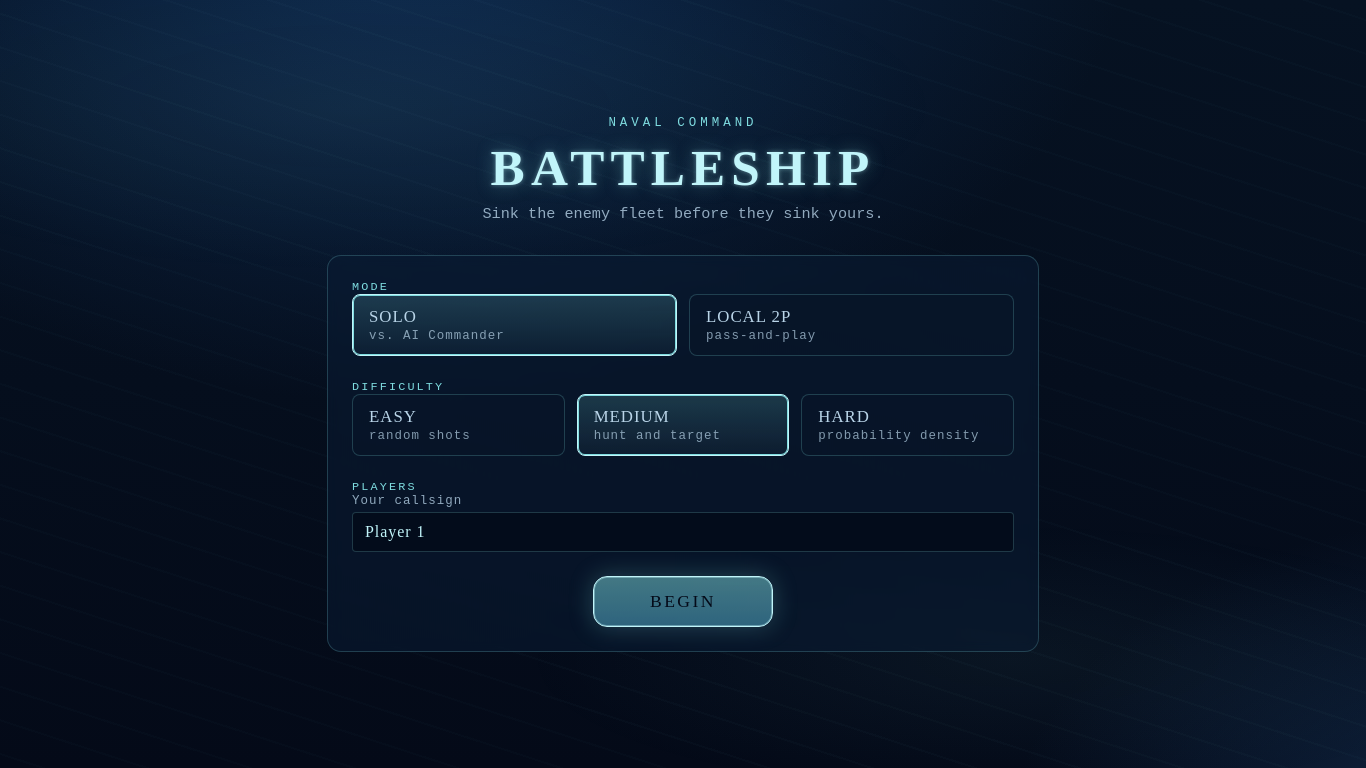
Test: PlacementScreen integration (CP2) › Selected ship is reflected with aria-pressed=true in the dock
This screenshot has width=1366, height=768.
Click the button with aria-label "begin placement". click: (683, 602)
box: [593, 576, 773, 627]
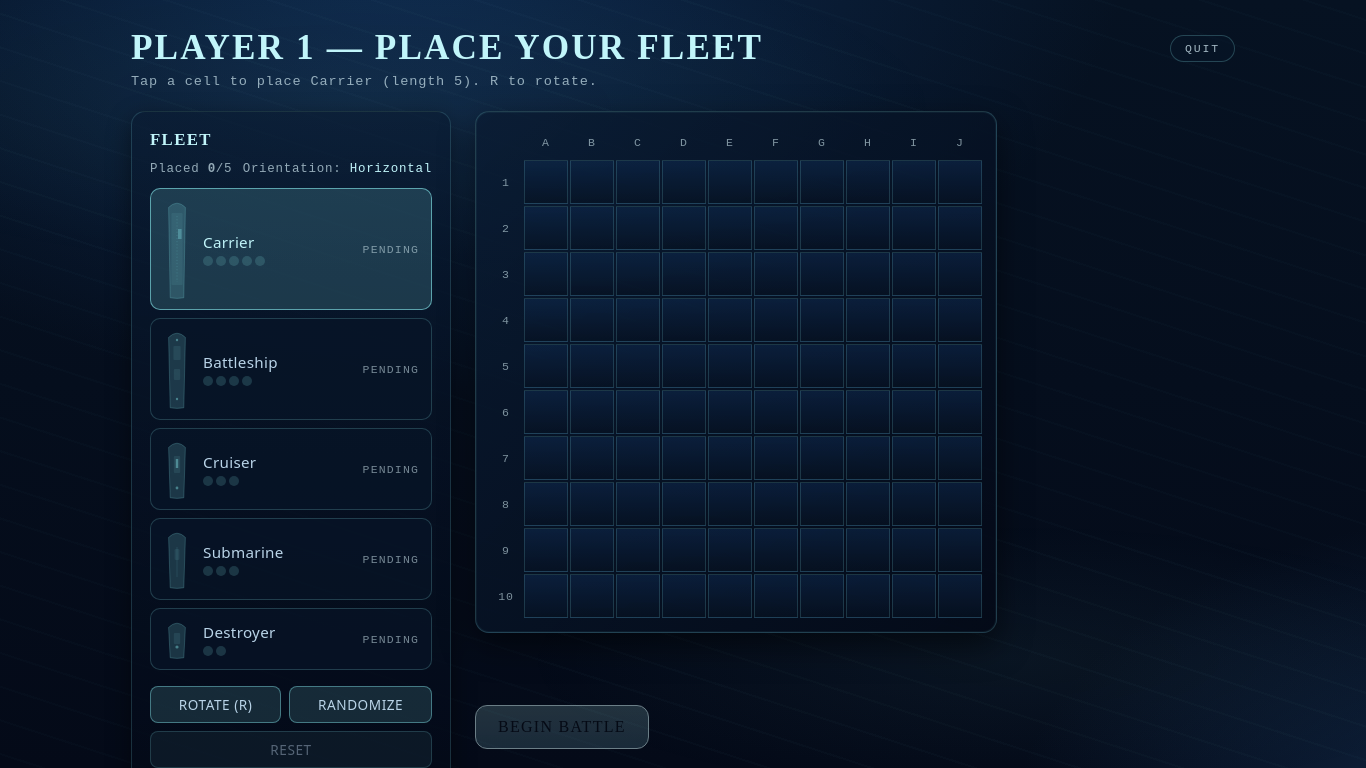
Click the button "Battleship Pending". click: (240, 362)
box: [150, 318, 432, 420]
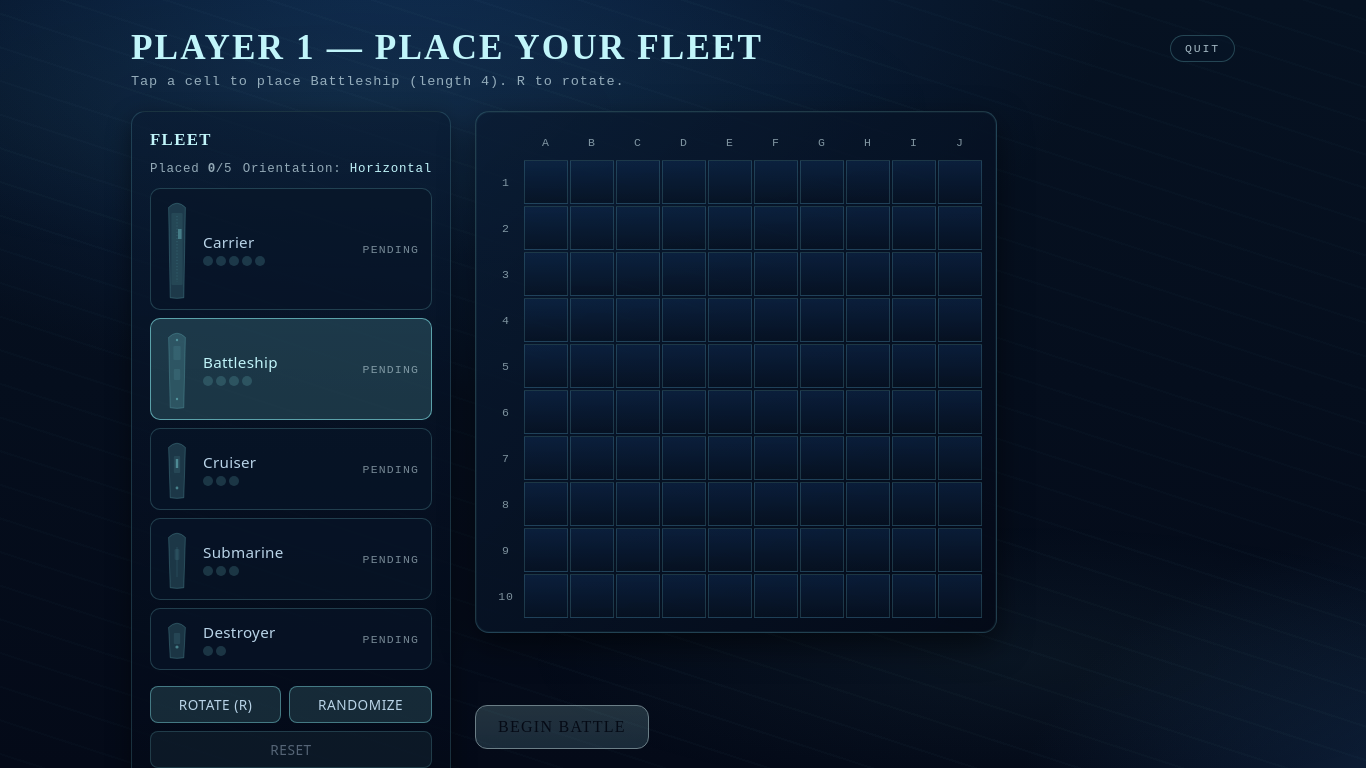
Expected: the button "Battleship Pending" is pressed, [150, 318, 432, 420]
Expected: the button "Carrier Pending" is not pressed, [150, 188, 432, 310]
